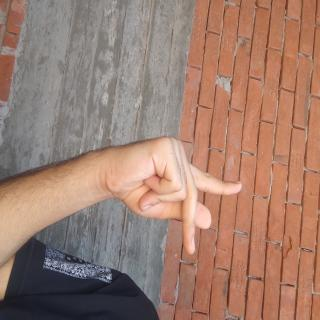DHAA: (97, 94, 195, 314)
